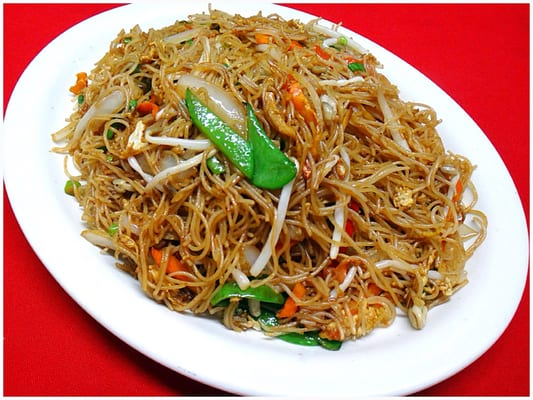sushi: (3, 5, 531, 391)
